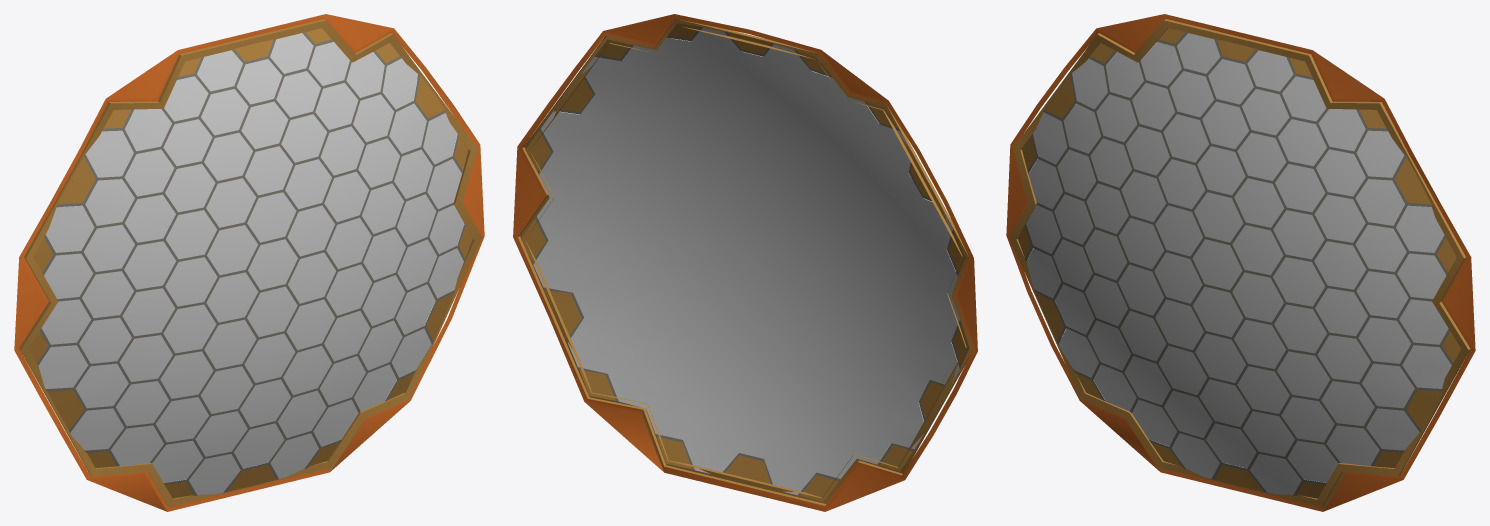
File: Hexpane_Window_LOD0.glb
3 views of the same model, side by side, from view 1: azimuth 30°, elevation 25°; view 2: azimuth 150°, elevation 25°; view 3: azimuth 330°, elevation 25° (orthographic).
Visible parts, largest first — view 1: HexpaneWindow_LOD0; view 2: HexpaneWindow_LOD0; view 3: HexpaneWindow_LOD0.
Part boxes in pixels (x1=…): HexpaneWindow_LOD0: x1=14, y1=14, x2=484, y2=511; HexpaneWindow_LOD0: x1=513, y1=14, x2=977, y2=511; HexpaneWindow_LOD0: x1=1006, y1=14, x2=1475, y2=511.
Bounding box in the file's own units: 7.19 × 6.78 × 0.648.
